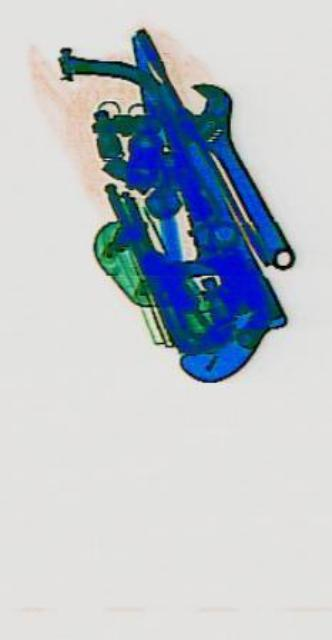Wrench: (169, 52, 306, 294)
